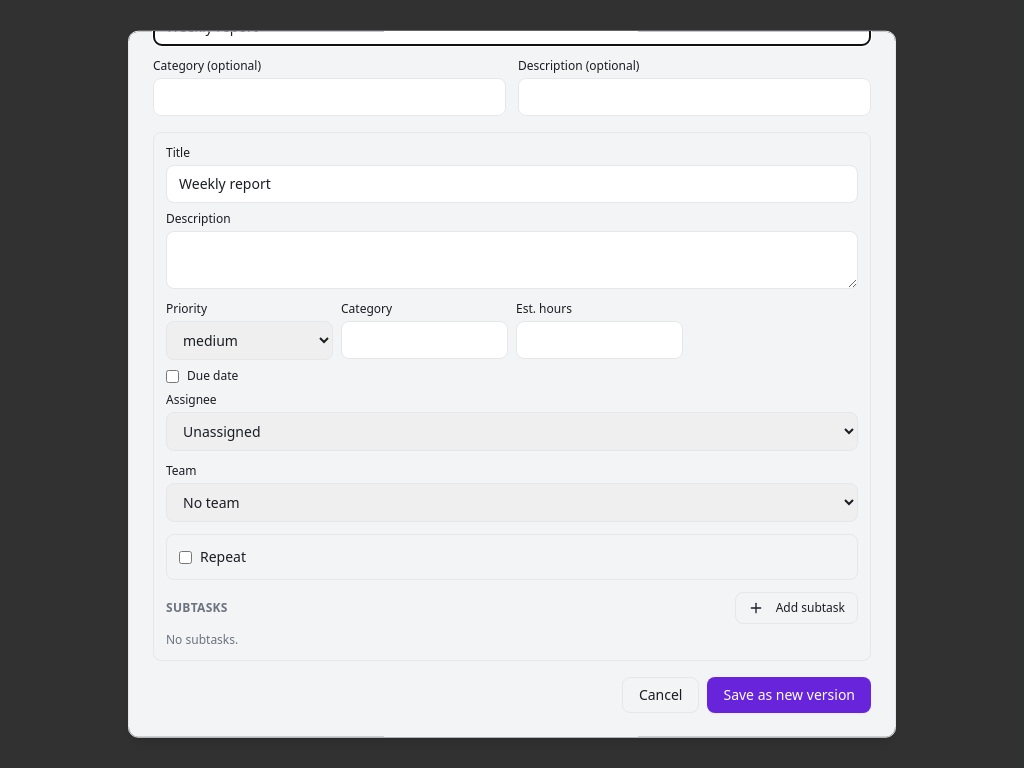
TemplateEditorDialog › editing sends expectedVersion and shows a version conflict
(page scrolled)
Click the button "Save as new version" at (789, 695), box [708, 677, 871, 713]
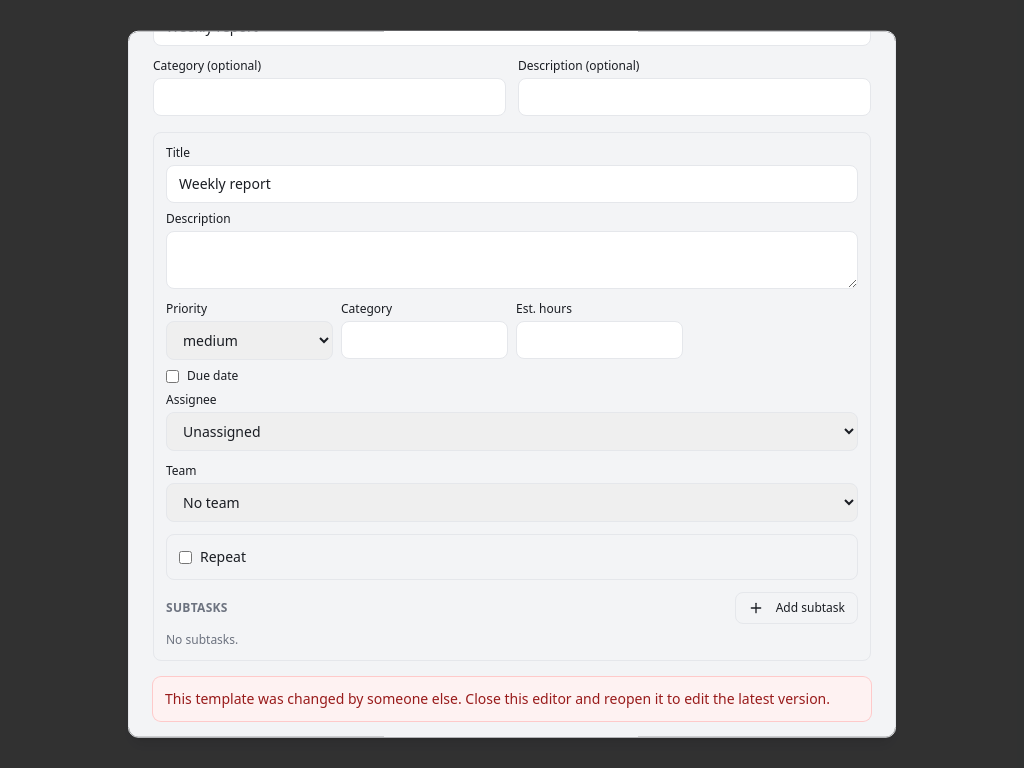
expect the message with test id "template-errors" shows "version": met, box [165, 689, 830, 708]
